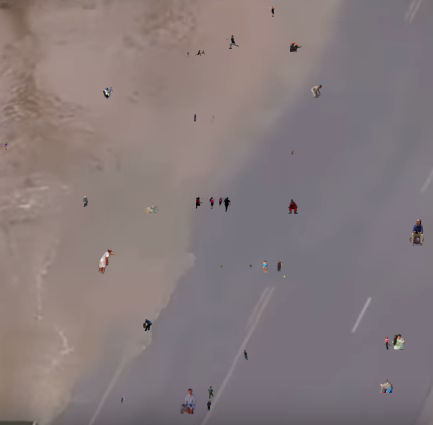Human: (180, 388, 201, 414), (196, 197, 231, 212), (98, 248, 116, 276), (409, 219, 424, 246), (384, 334, 406, 350), (176, 114, 215, 123), (263, 260, 283, 273), (226, 35, 239, 49), (380, 379, 393, 393), (311, 85, 323, 98), (288, 199, 298, 214), (145, 203, 159, 213), (103, 87, 113, 99), (290, 42, 302, 52), (143, 319, 152, 331), (208, 386, 215, 399), (267, 6, 275, 17), (195, 50, 205, 56), (243, 350, 248, 361), (83, 196, 88, 207), (207, 400, 211, 412), (4, 142, 9, 150), (121, 396, 125, 403), (219, 264, 224, 268), (290, 150, 294, 155), (249, 263, 252, 269), (187, 52, 189, 57), (283, 275, 286, 278)
